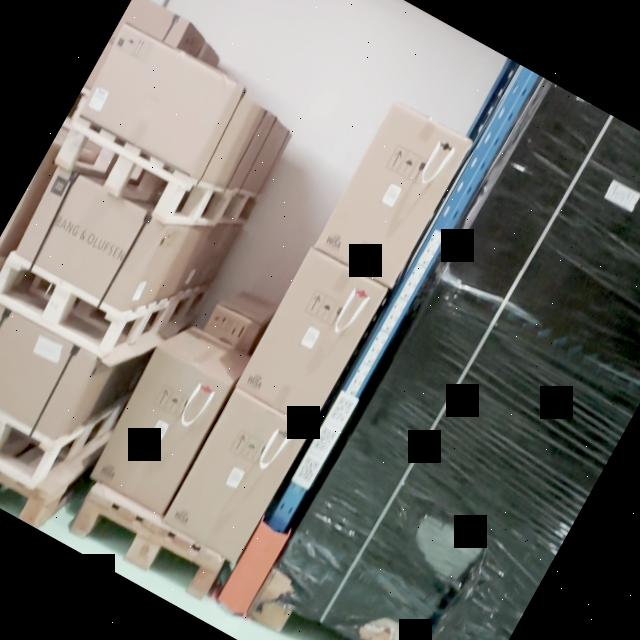box: (235, 248, 386, 428), (318, 109, 466, 286), (77, 27, 237, 176), (163, 394, 304, 560), (88, 352, 228, 516), (11, 176, 158, 306), (0, 300, 98, 440)
